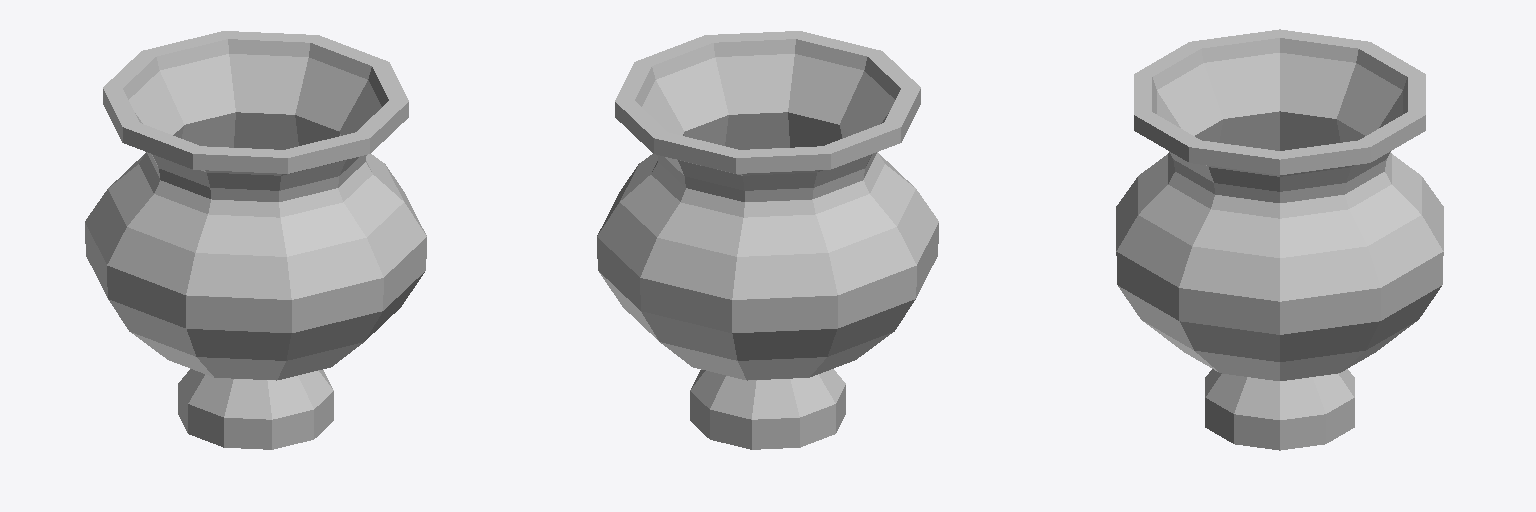
Rendered from WOH_Asset_Vase.obj.
3 views of the same model, side by side, from view 1: azimuth 30°, elevation 25°; view 2: azimuth 150°, elevation 25°; view 3: azimuth 270°, elevation 25° (orthographic).
Parts seen in each view (by area): view 1: pCylinder1; view 2: pCylinder1; view 3: pCylinder1.
Boxes of the visible parts, <box> form: pCylinder1: <box>85,31,426,449</box>; pCylinder1: <box>597,31,938,449</box>; pCylinder1: <box>1116,29,1443,450</box>.
Size of the model in its own units: 122 by 126 by 116.